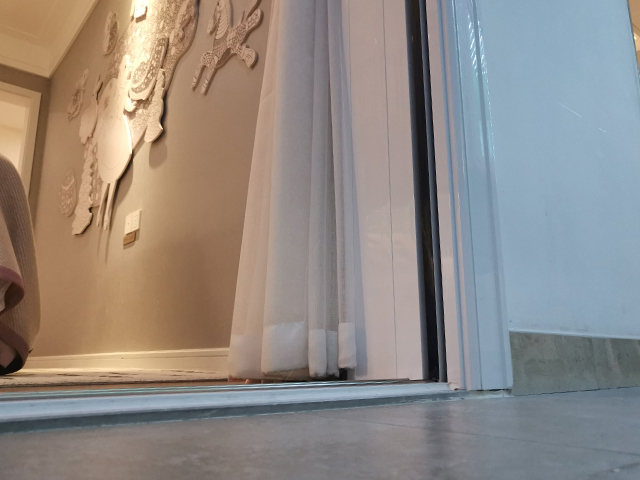carpet: (1, 366, 230, 389)
curtain: (224, 1, 360, 382)
